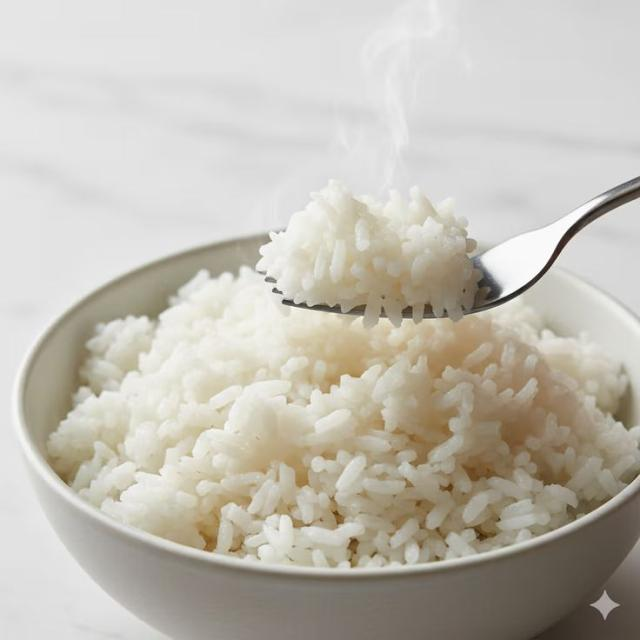rice: (48, 269, 639, 567), (257, 180, 480, 326)
